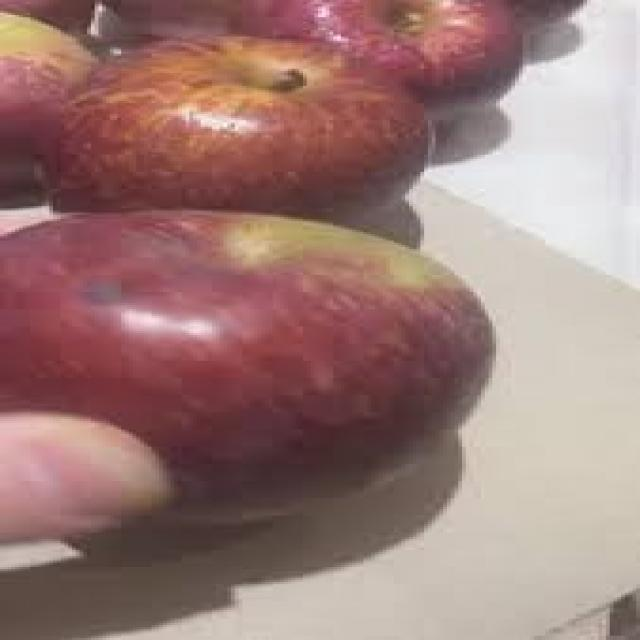organic waste: (0, 206, 492, 528), (38, 30, 432, 232), (223, 0, 522, 142), (0, 9, 91, 174), (102, 0, 231, 37), (500, 0, 591, 32), (0, 0, 83, 34)
